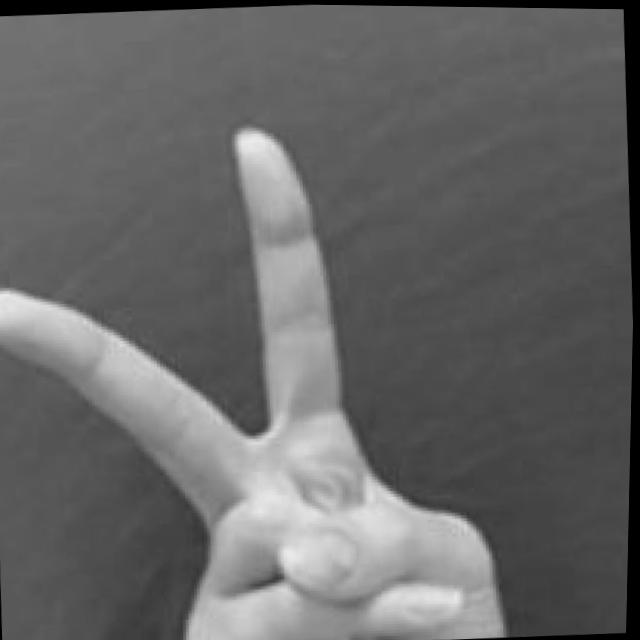V: (0, 107, 524, 640)
